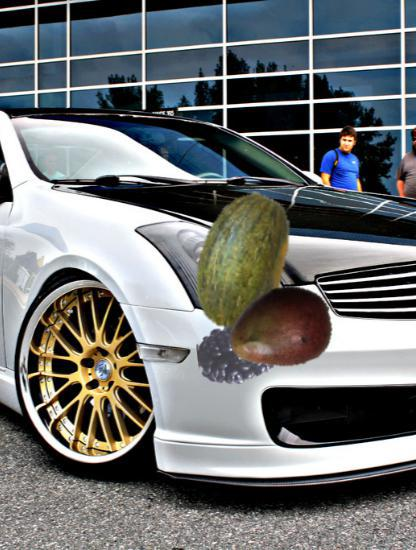Mango: (227, 276, 334, 383)
Melon: (174, 191, 314, 331)
Mulberry: (197, 312, 281, 396)
